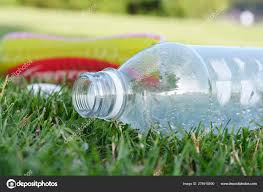plastic_bottle: (73, 42, 263, 139)
